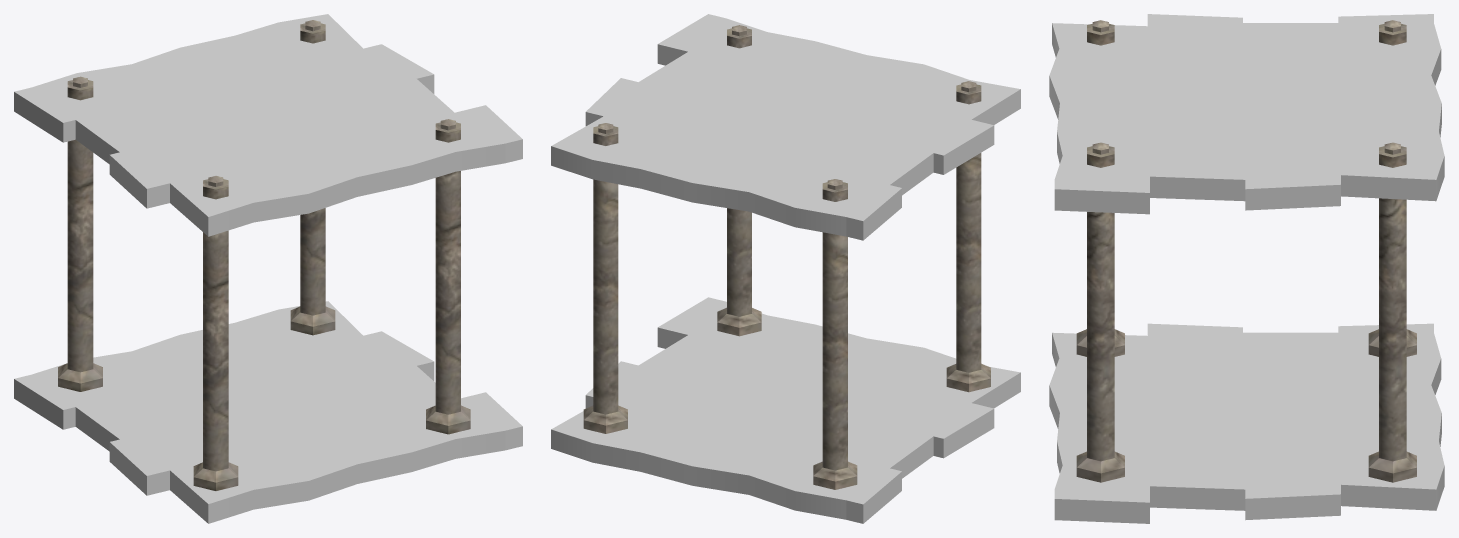
The model's file is lift.fbx.
3 renders of one model, left to right at view 1: azimuth 30°, elevation 25°; view 2: azimuth 150°, elevation 25°; view 3: azimuth 270°, elevation 25°, orthographic. The views are drawn at different scales.
Visible parts, largest first — view 1: polySurface47; view 2: polySurface47; view 3: polySurface47.
Boxes of the visible parts, box(x1,y1,x2,y2) form: polySurface47: box(14, 14, 522, 523); polySurface47: box(551, 14, 1020, 523); polySurface47: box(1049, 14, 1444, 523).
Bounding box in the file's own units: 1.78 × 1.62 × 1.66.
